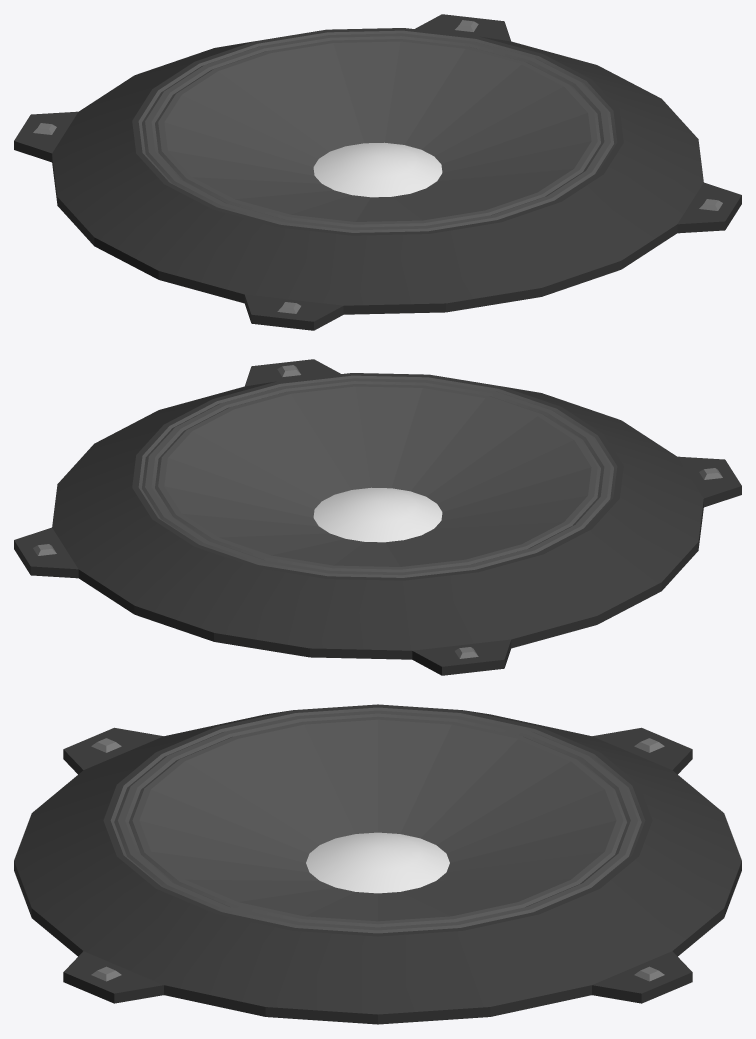
Rendered from Speaker.fbx.
The picture shows the model from 3 angles, top to bottom: view 1: azimuth 30°, elevation 25°; view 2: azimuth 150°, elevation 25°; view 3: azimuth 270°, elevation 25°; orthographic projection. The views are drawn at different scales.
Parts seen in each view (by area): view 1: speaker; view 2: speaker; view 3: speaker.
Part boxes in pixels (bbox=[...]): speaker: bbox=[14, 14, 741, 330]; speaker: bbox=[14, 359, 741, 675]; speaker: bbox=[14, 704, 741, 1024].
Size of the model in its own units: 13.14 by 1 by 13.14.
1 material, 1 textured.
